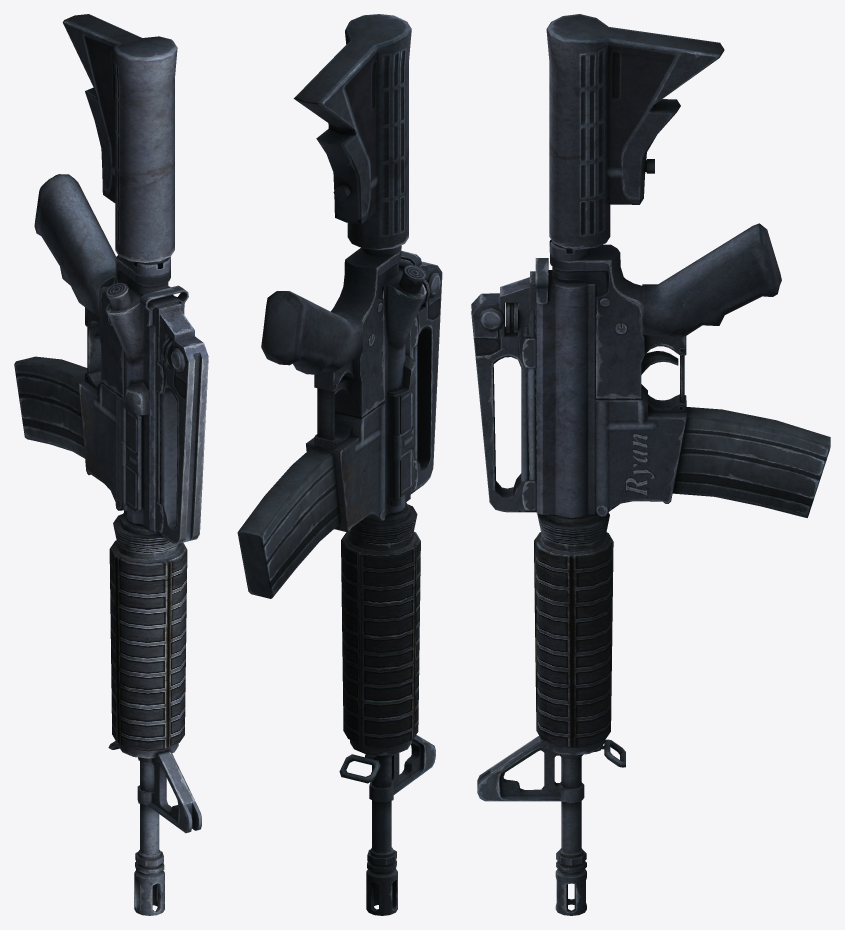
The model's file is gun_rifle.glb.
The picture shows the model from 3 angles, left to right: view 1: azimuth 30°, elevation 25°; view 2: azimuth 150°, elevation 25°; view 3: azimuth 270°, elevation 25°; orthographic projection. The views are drawn at different scales.
Size of the model in its own units: 0.1197 by 1.3 by 0.4798.
1 material, 1 textured.
